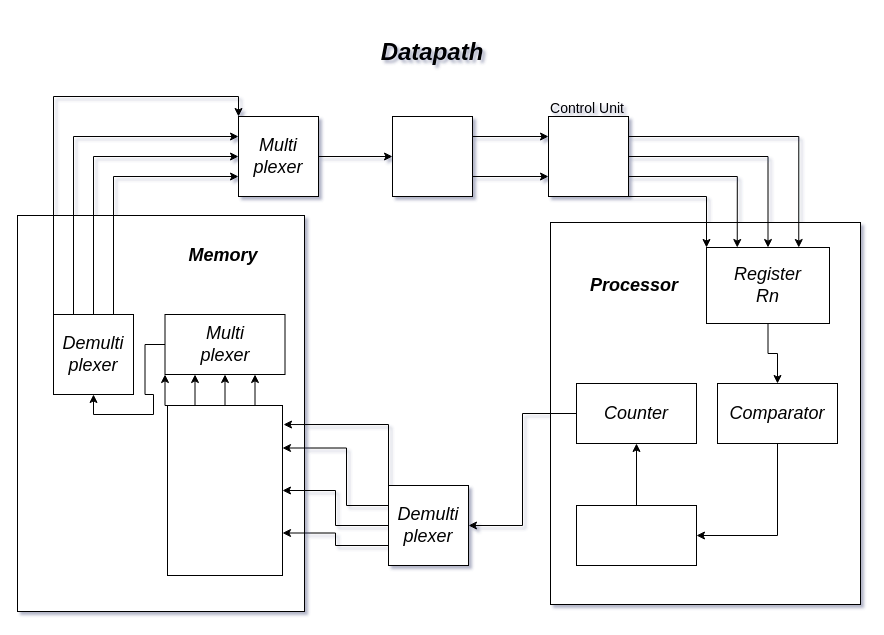
Some shapes in this 884 by 635 pixel diagram are drawn without their labels. The shapes that lost their labels are listed below. From the top down, each one's centre as x and y in pixels, then its label:
the point at 432,156: R/W(I/O)
the point at 588,156: Decoder
the point at 224,490: RAM
the point at 636,535: Adder
